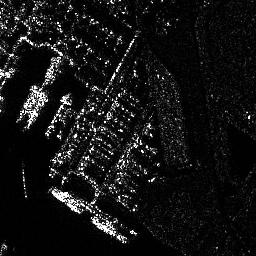ship: (12, 83, 41, 125), (45, 94, 71, 138), (90, 216, 129, 243), (47, 185, 82, 214), (25, 93, 48, 131)
